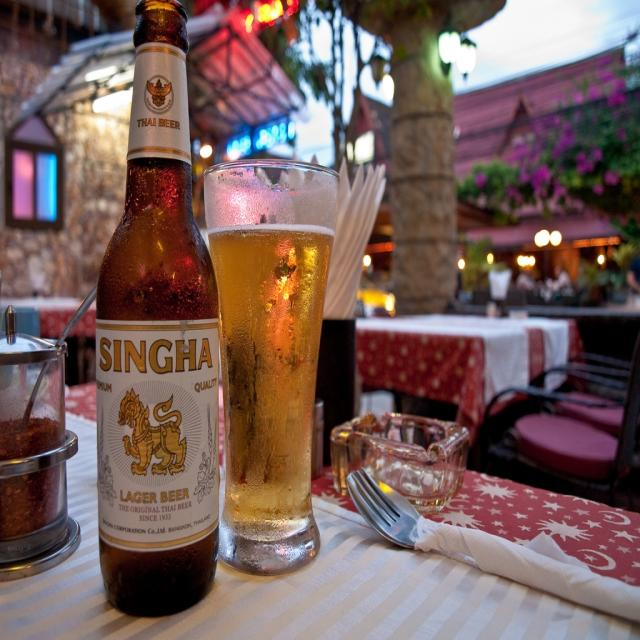singha: (97, 324, 221, 553)
